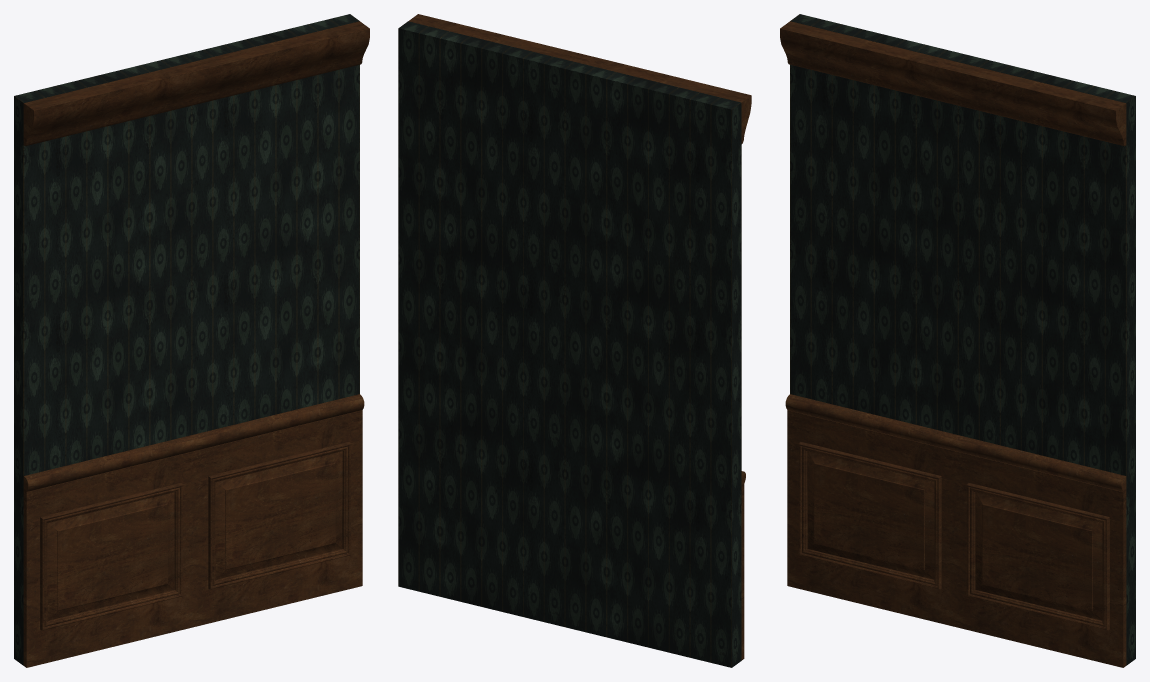
File: Wall_Panel.gltf
The picture shows the model from 3 angles, left to right: view 1: azimuth 30°, elevation 25°; view 2: azimuth 150°, elevation 25°; view 3: azimuth 330°, elevation 25°; orthographic projection.
Parts seen in each view (by area): view 1: Wall_Panel_Wall, Wall_Panel_Wood; view 2: Wall_Panel_Wall, Wall_Panel_Wood; view 3: Wall_Panel_Wall, Wall_Panel_Wood.
Boxes of the visible parts, left/top/right/bottom form: Wall_Panel_Wall: left=14, top=14, right=359, bottom=665; Wall_Panel_Wood: left=23, top=21, right=369, bottom=667; Wall_Panel_Wall: left=398, top=21, right=741, bottom=667; Wall_Panel_Wood: left=408, top=14, right=751, bottom=660; Wall_Panel_Wall: left=790, top=14, right=1135, bottom=665; Wall_Panel_Wood: left=780, top=21, right=1126, bottom=667.
Size of what is drawn, in the model's own units: 2 by 3.2 by 0.205.
2 materials, 2 textured.
